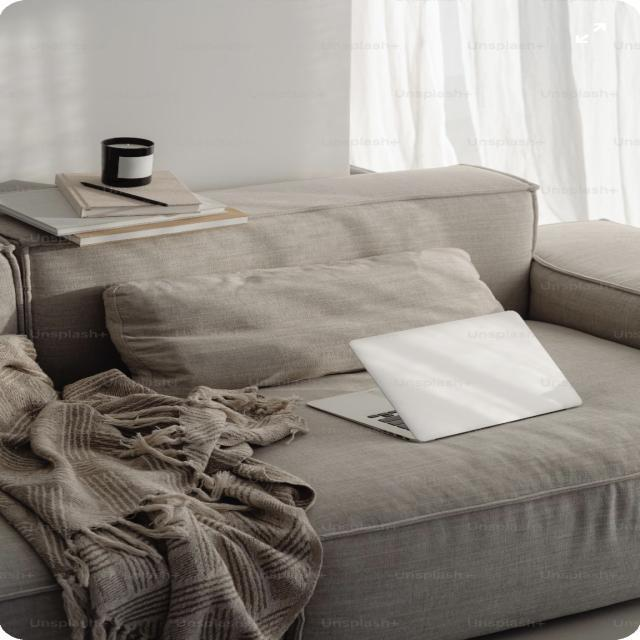book: (59, 172, 194, 212)
computer: (337, 311, 585, 444)
cup: (106, 135, 152, 184)
pillow: (107, 256, 505, 380)
